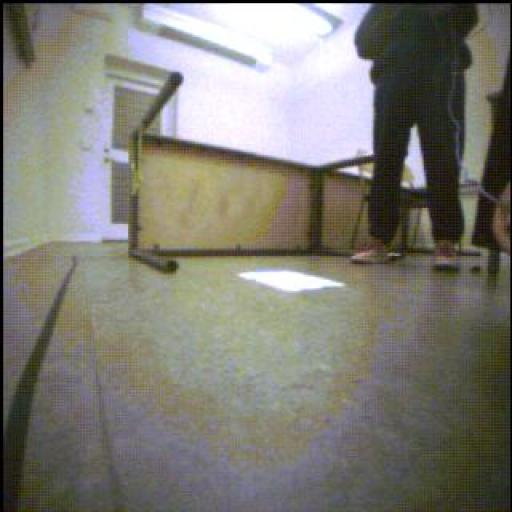Pad: (236, 272, 341, 296)
